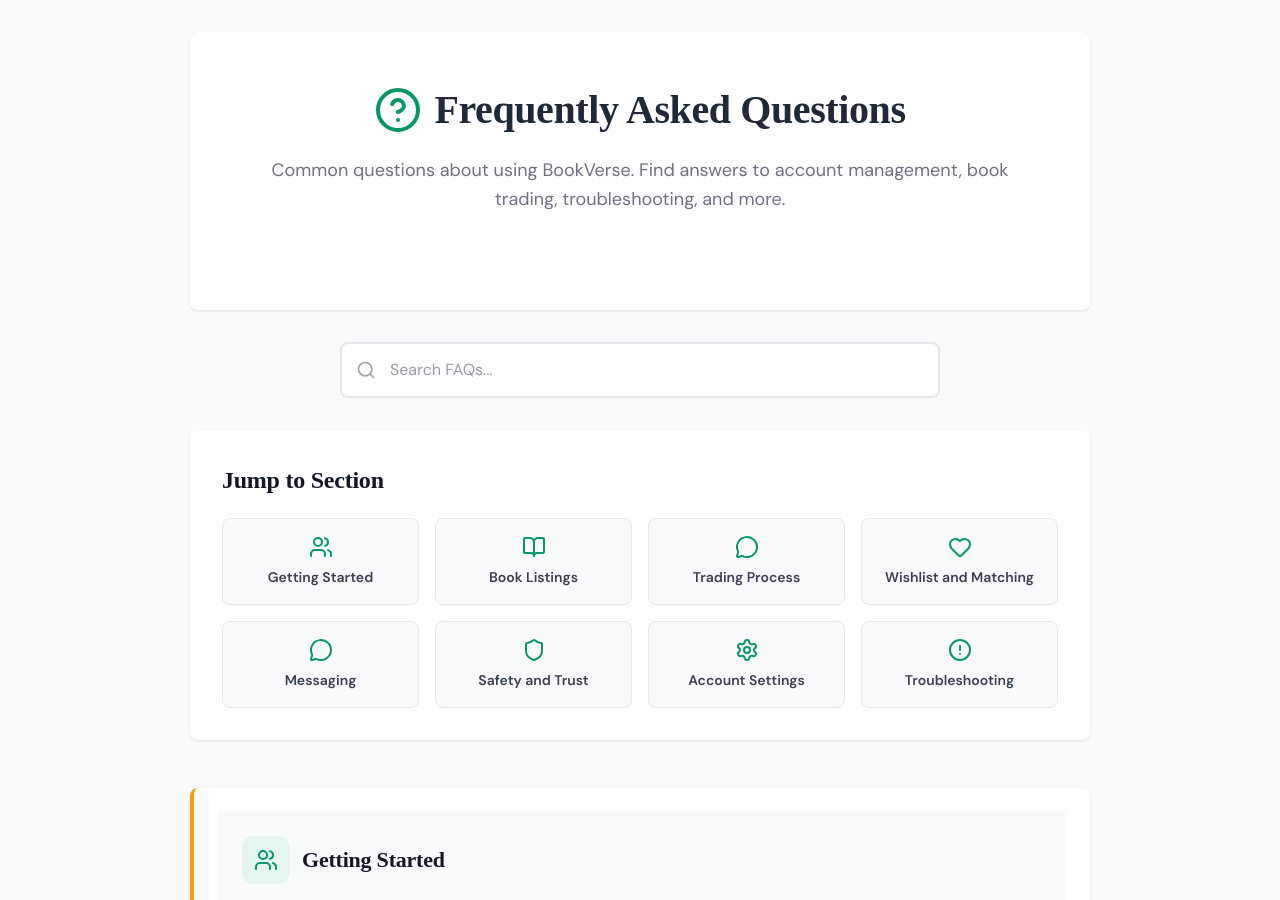
Scenario: FAQPage › filters FAQ items based on search query
The width and height of the screenshot is (1280, 900).
# Search for "password"
Type "password" into the field with placeholder "Search FAQs..." at (640, 370), box [340,342,940,398]
(page scrolled)
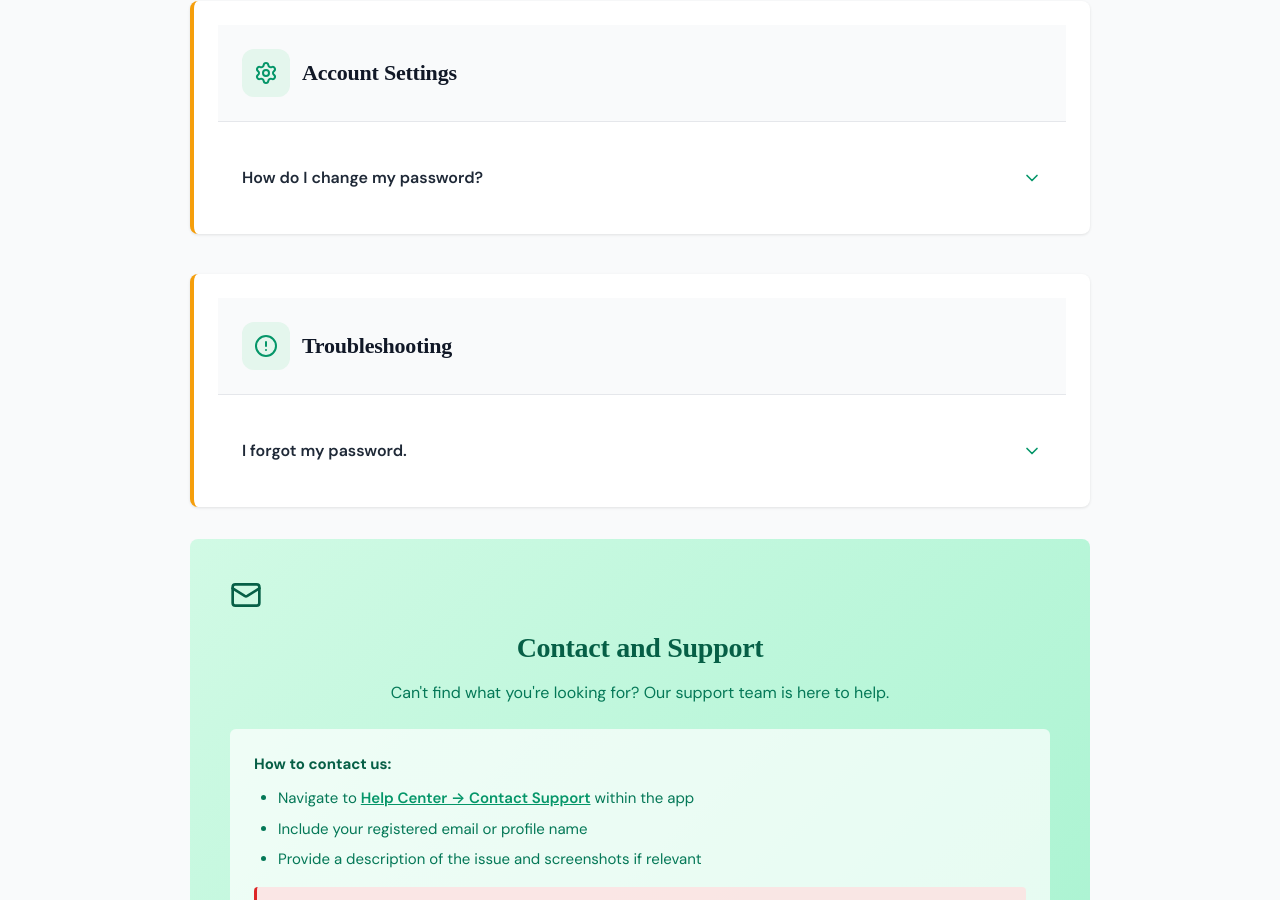
Check: the text "How do I change my password?" is shown, box [242,166,483,190]
Check: the text "I forgot my password." is shown, box [242,439,407,463]
